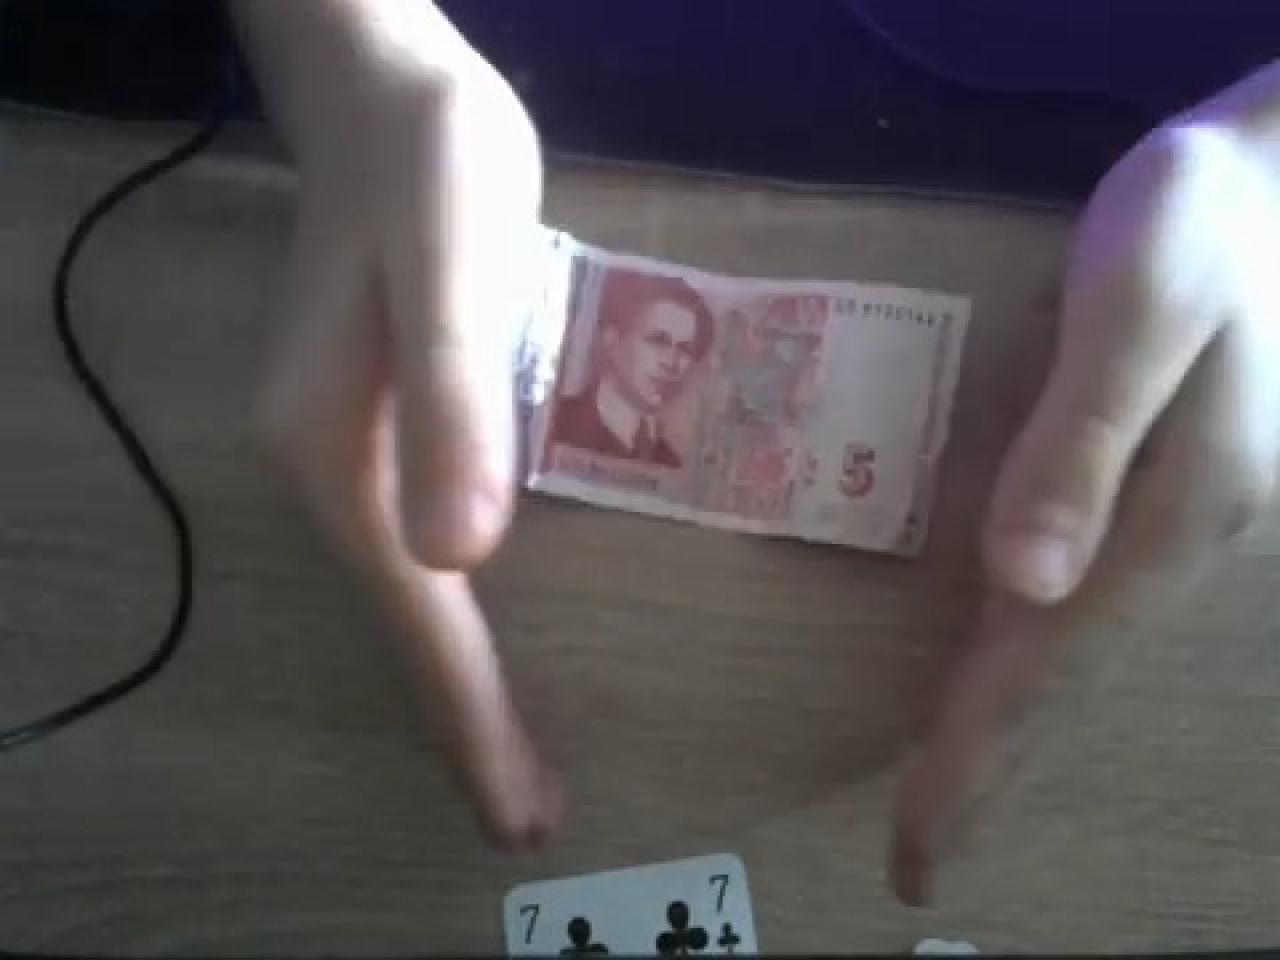5leva: (525, 243, 968, 560)
